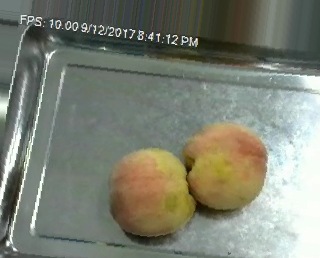Peach: (109, 146, 193, 238), (184, 121, 266, 210)
